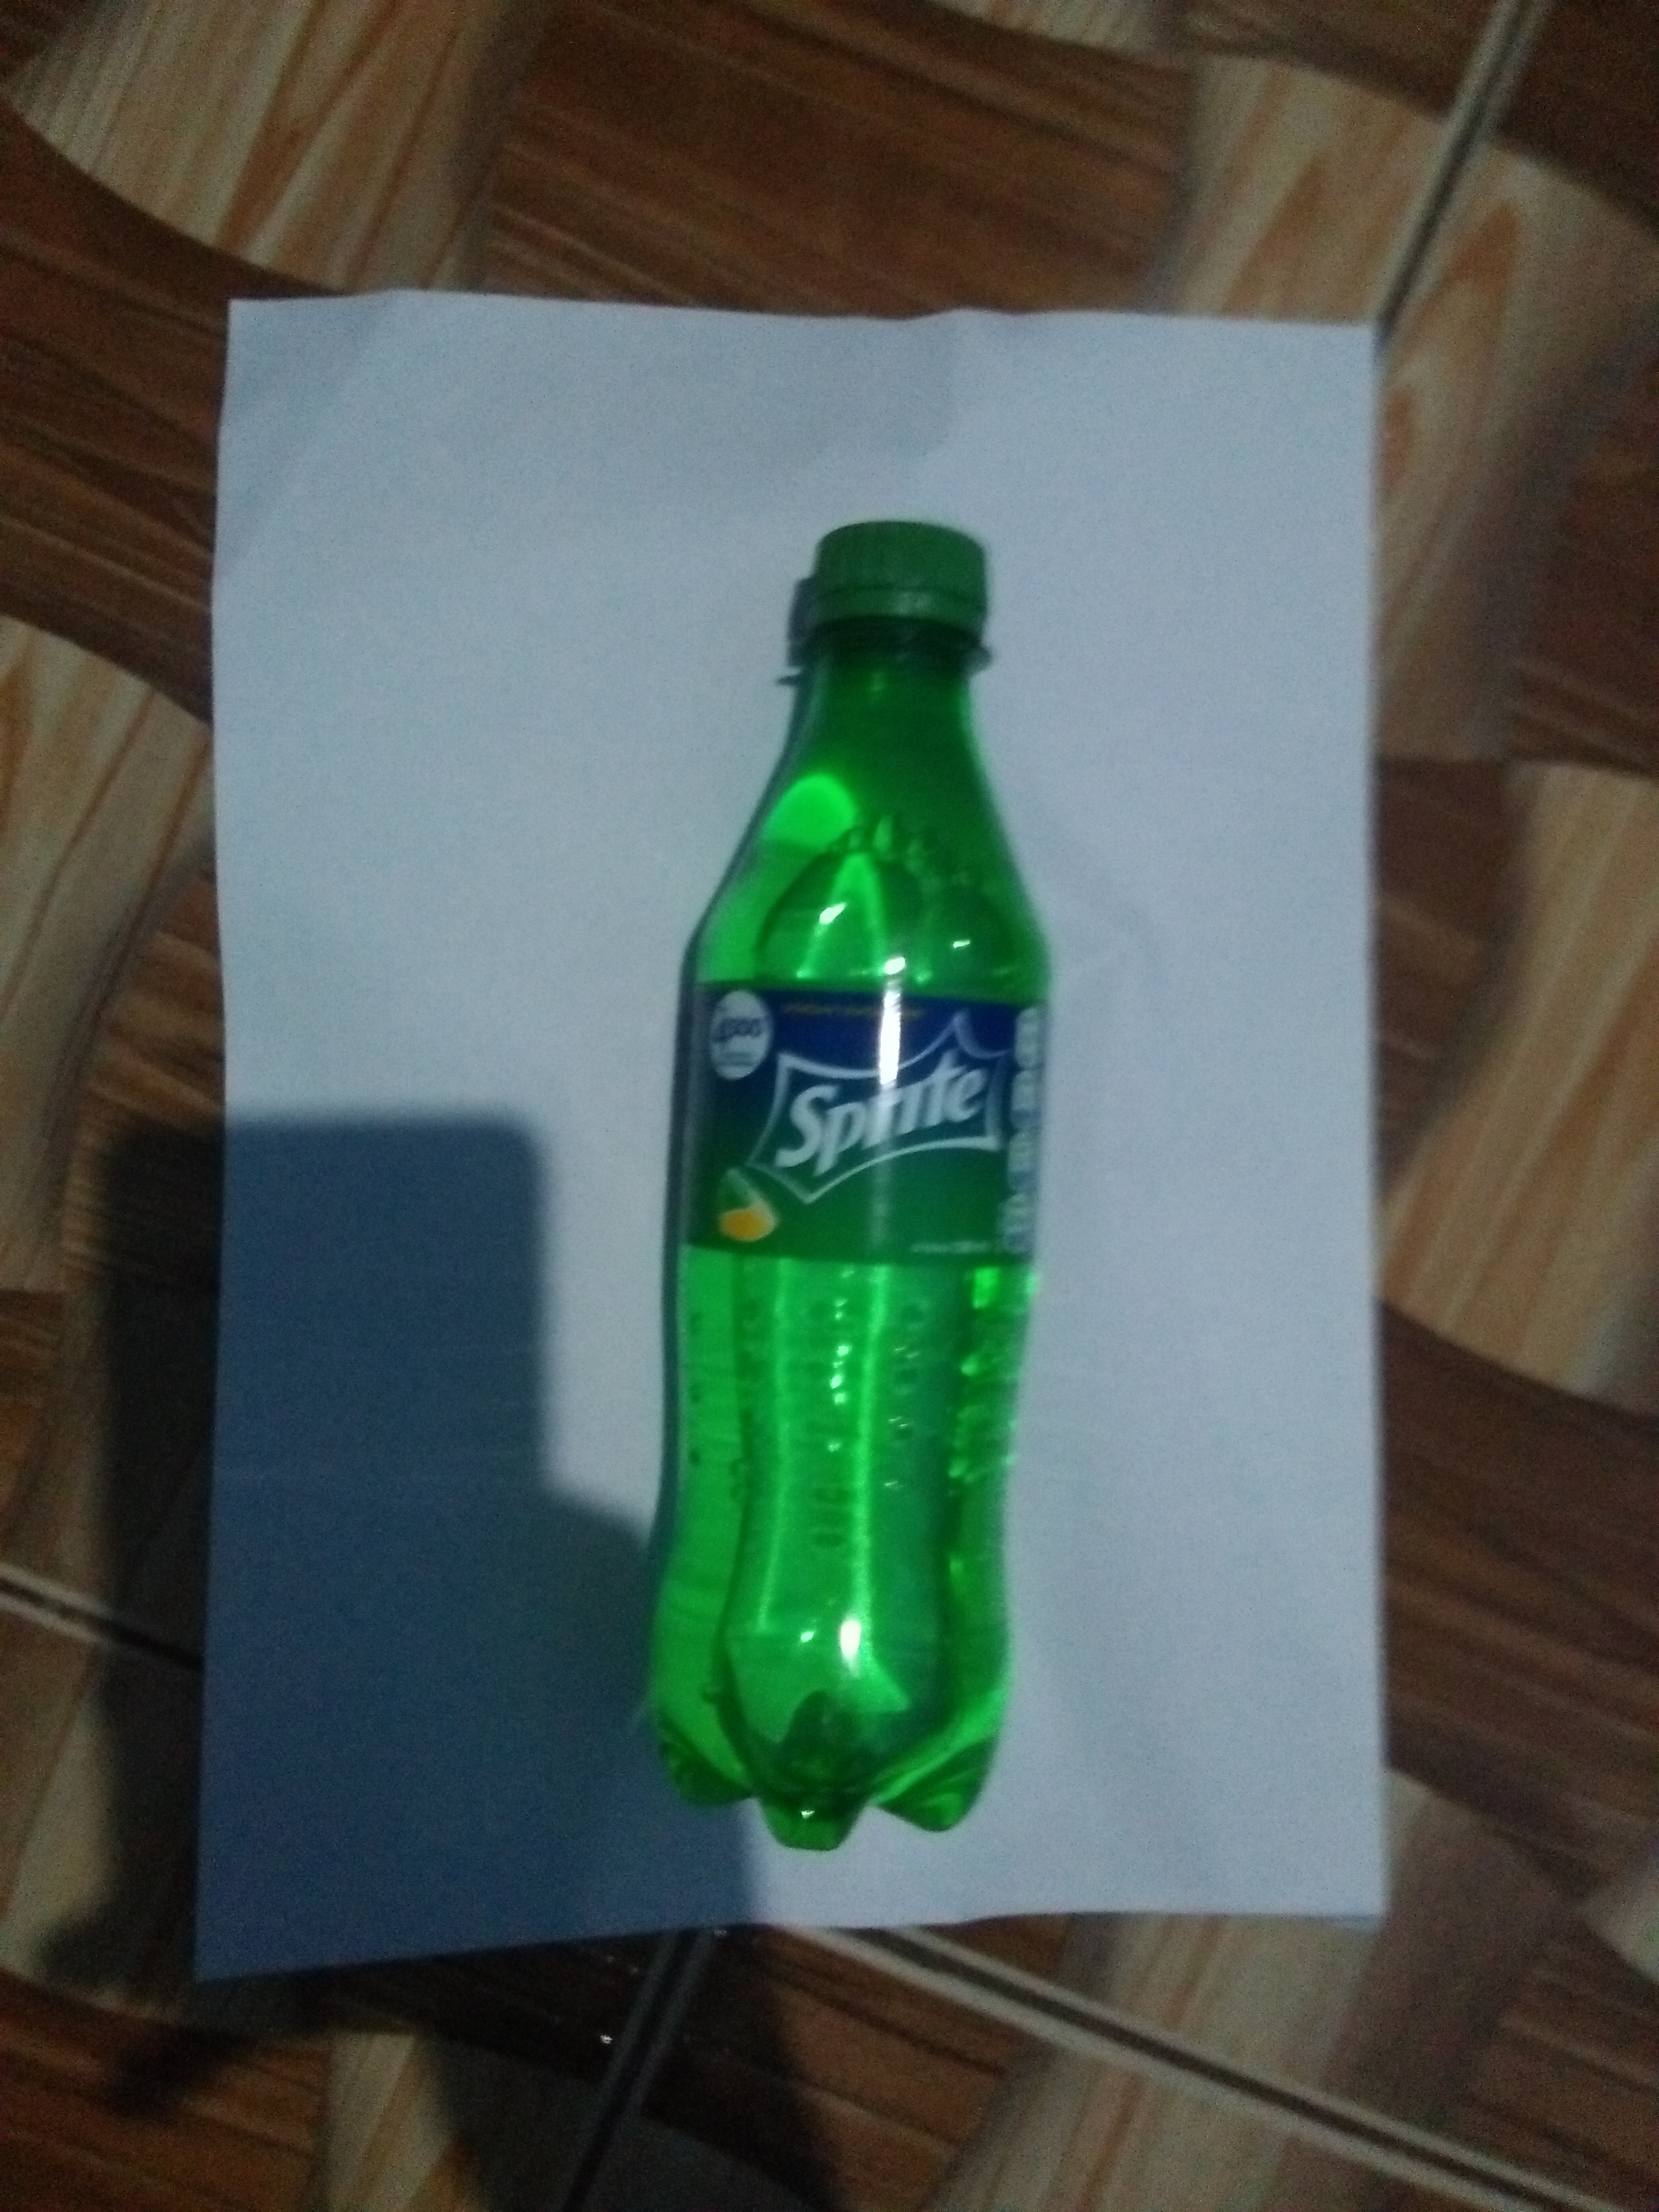Sprite: (627, 519, 1086, 1886)
